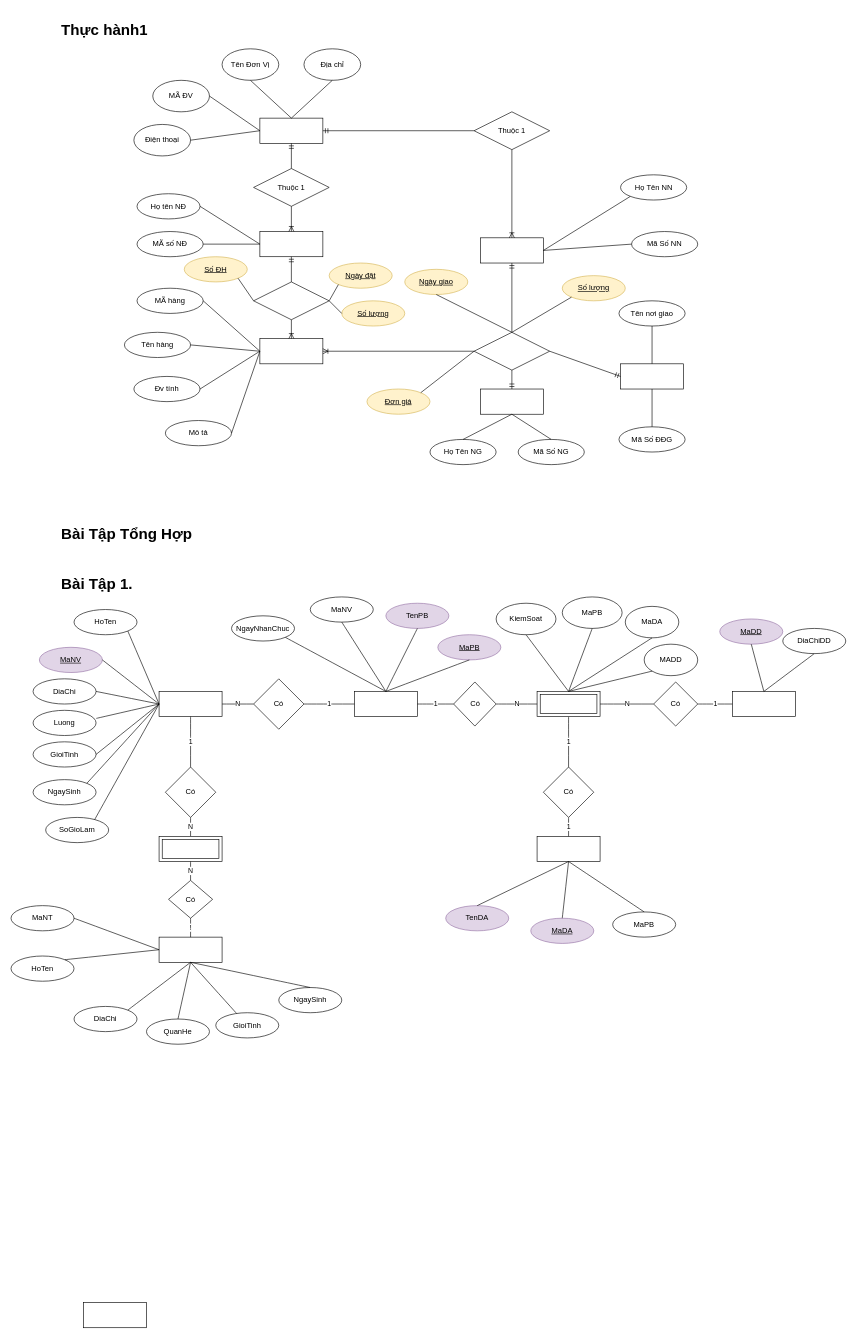
This 857x1339 diagram has some shape labels left out. Each missing label, with the centre of its shape:
"DuAn" goes at (x=568, y=849).
"Entity" goes at (x=114, y=1315).
"Giao" goes at (x=511, y=351).
"Hàng" goes at (x=291, y=351).
"NguoiThan" goes at (x=190, y=949).
"Người giao" goes at (x=511, y=401).
"Người nhận" goes at (x=511, y=250).
"Người đặt" goes at (x=291, y=244).
"Nhân Viên" goes at (x=190, y=704).
"NV_NT" goes at (x=190, y=849).
"Nơi Giao" goes at (x=652, y=376).
"PB_DD_DA" goes at (x=568, y=704).
"PhongBan" goes at (x=385, y=704).
"ĐiaDiemPB" goes at (x=763, y=704).
"Đơn vị ĐH" goes at (x=291, y=130).
"Đặt" goes at (x=291, y=300).
